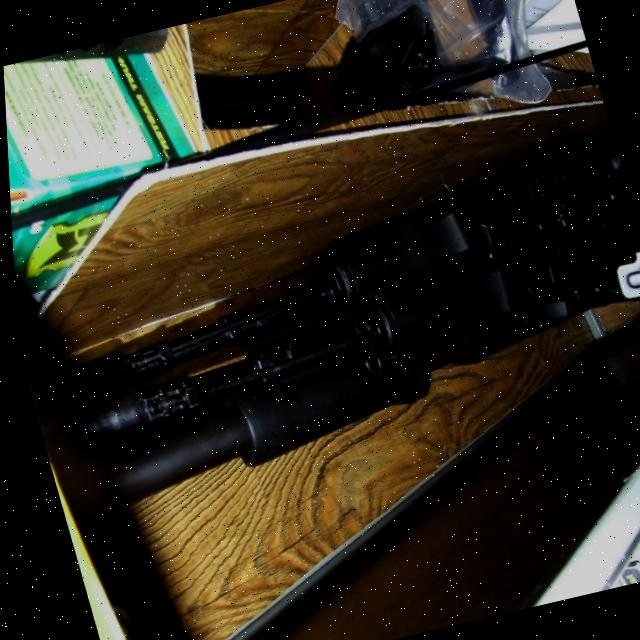firearm: (5, 132, 640, 426), (8, 206, 640, 479)
